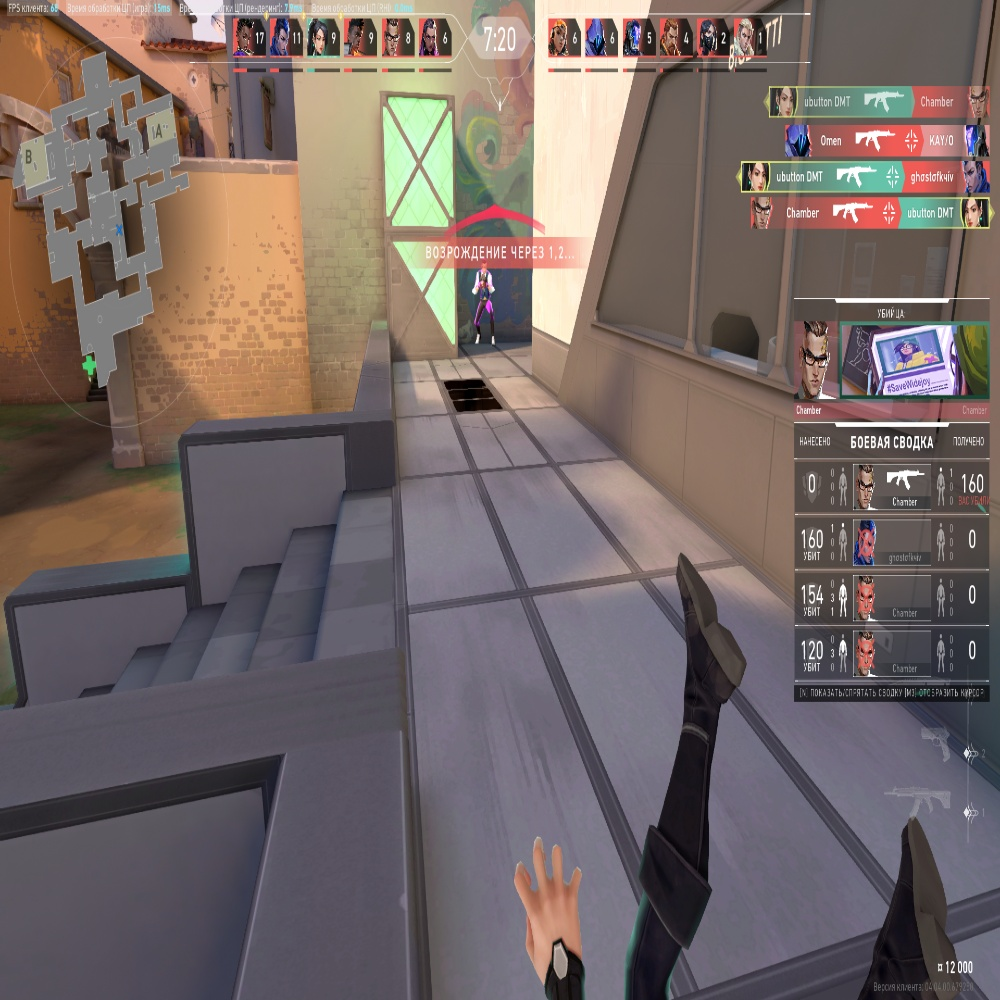body: (475, 274, 492, 300)
head: (480, 261, 489, 273)
